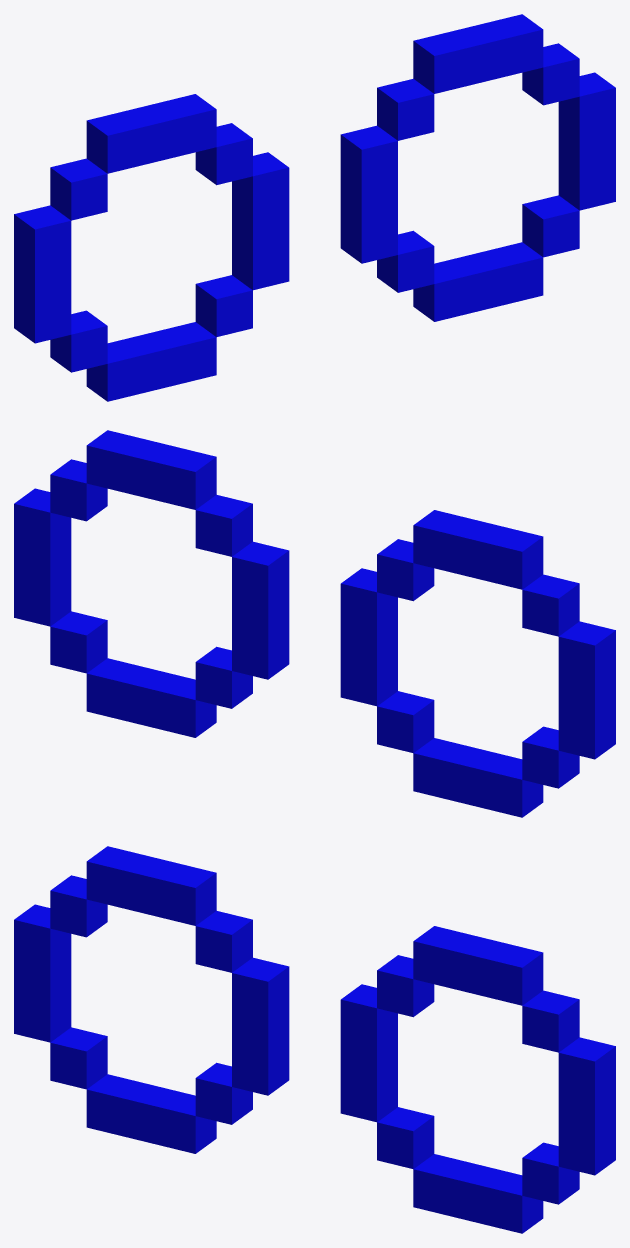
The picture shows the model from 3 angles, top to bottom: view 1: azimuth 30°, elevation 25°; view 2: azimuth 150°, elevation 25°; view 3: azimuth 330°, elevation 25°; orthographic projection.
Visible parts, largest first — view 1: 14.1; view 2: 14.1; view 3: 14.1.
Boxes of the visible parts, bbox=[...] form: 14.1: bbox=[14, 14, 615, 401]; 14.1: bbox=[14, 430, 615, 817]; 14.1: bbox=[14, 846, 615, 1233].
Size of the model in its own units: 160 by 70 by 10.
Materials: 1 (1 with a texture image).
